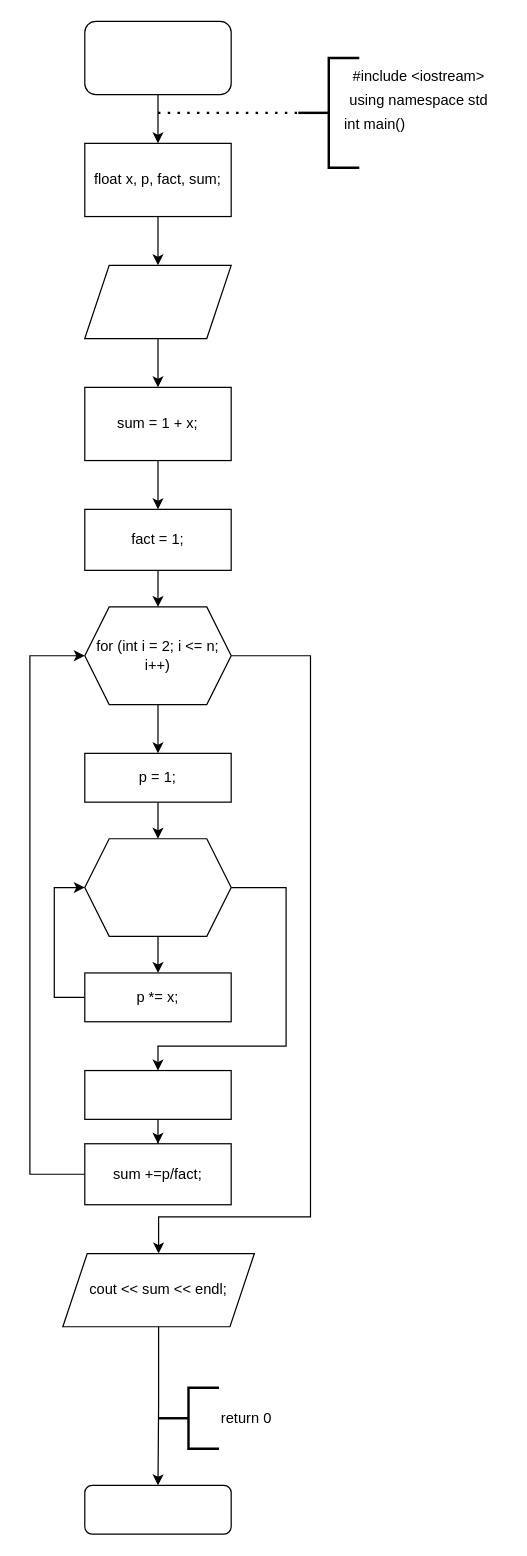
Image size: 527x1556. Some labels were removed from this diagram. Here are the shapes that lost their labels. From the top down, the centre of each, then its label:
At (157,57): "начало".
At (157,301): "cin >> n >> x;".
At (157,887): "for (int j = 1; j <= i; j++)".
At (157,1094): "fact *= i;".
At (157,1509): "конец".
